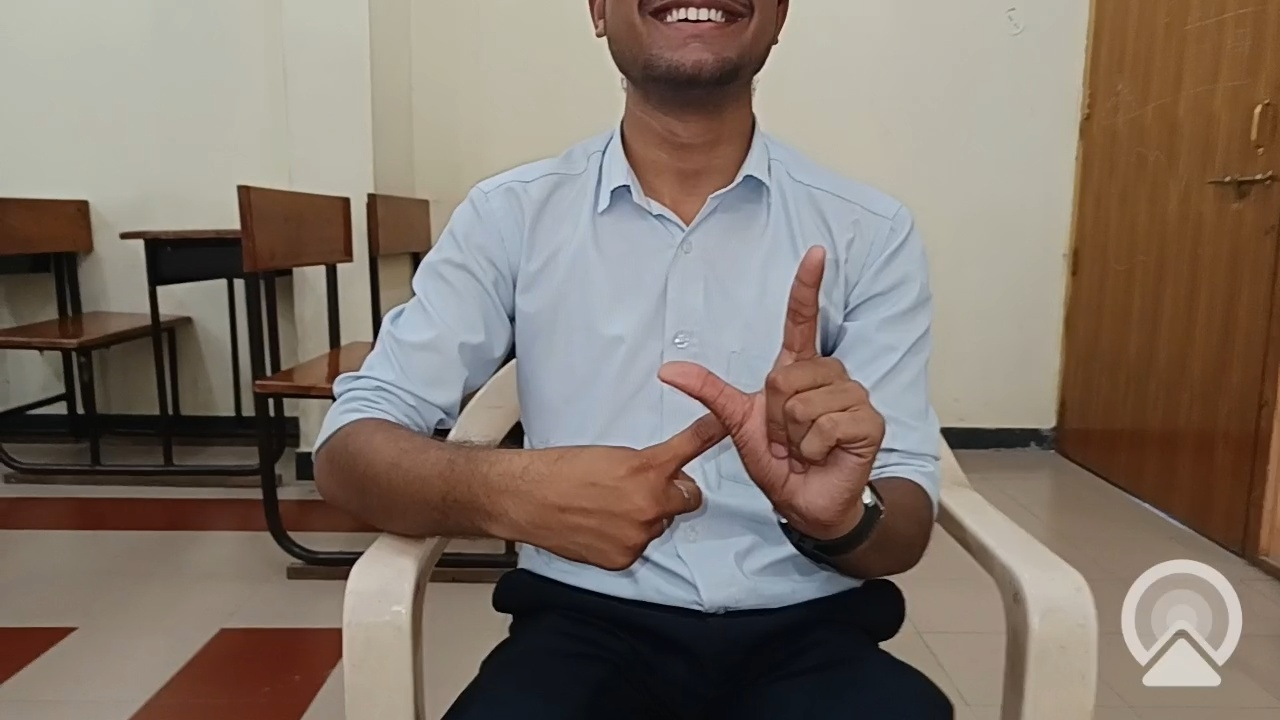Y: (456, 204, 857, 587)
